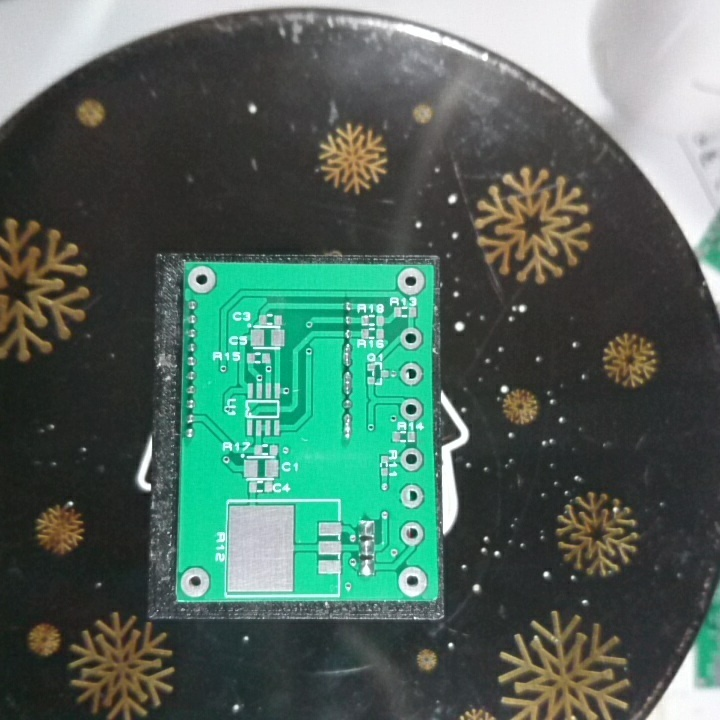F: (395, 564, 431, 598), (178, 565, 212, 600), (186, 263, 219, 295), (394, 266, 425, 297), (397, 360, 427, 389), (398, 520, 427, 549), (399, 481, 425, 512), (397, 447, 426, 474), (399, 396, 425, 425), (398, 326, 425, 352)
P: (340, 410, 355, 440), (340, 370, 355, 398), (340, 340, 354, 369)
